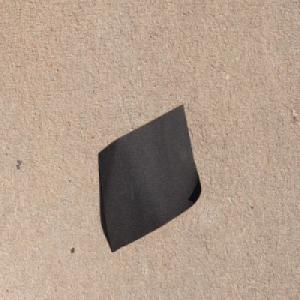PaintChip: (97, 101, 203, 254)
